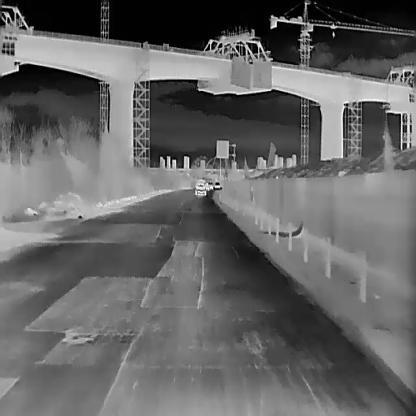car: (195, 179, 205, 195), (205, 182, 213, 190), (214, 181, 220, 188)
